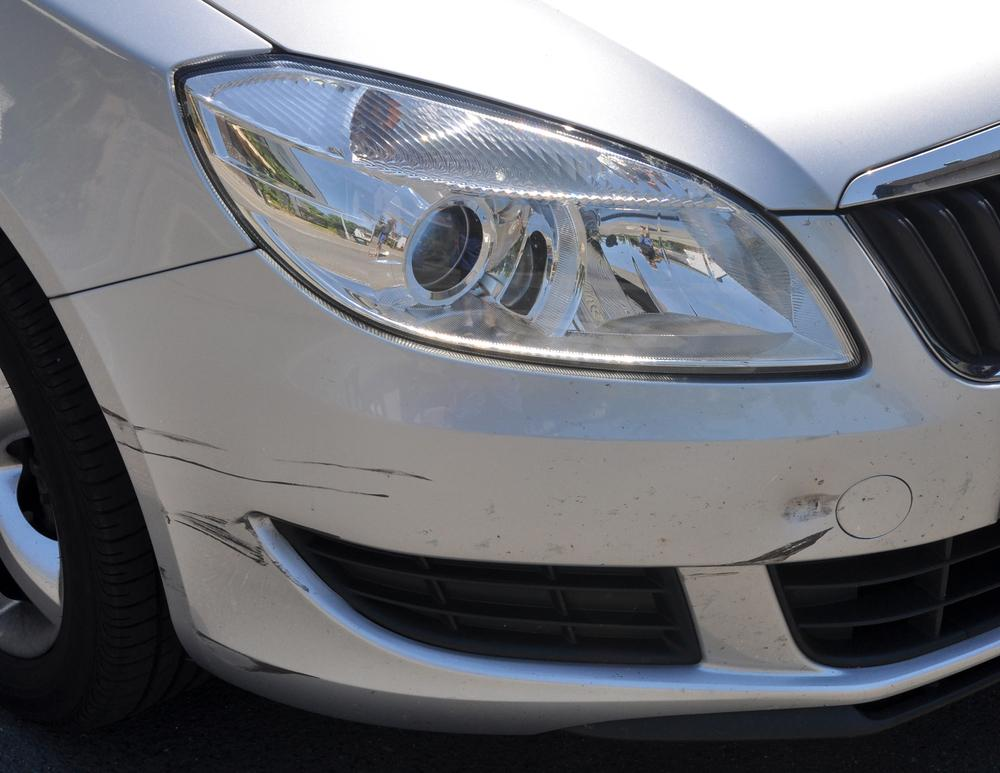scratch: (96, 395, 435, 602), (192, 626, 331, 689), (740, 524, 835, 566)
